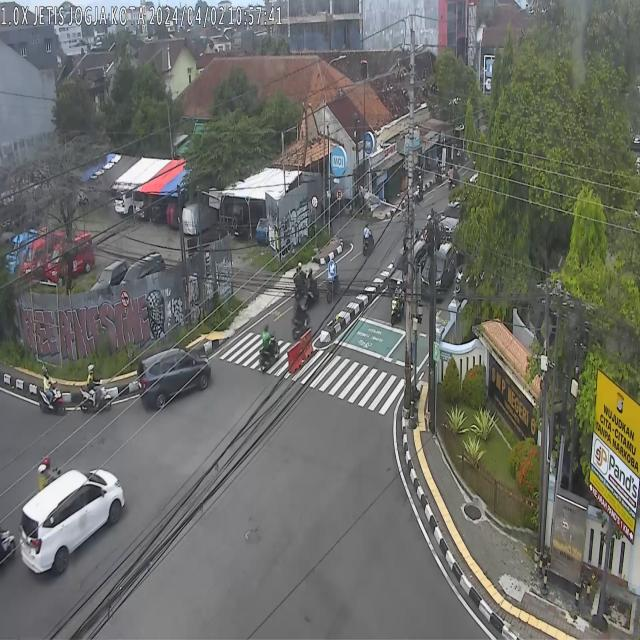car: (20, 466, 126, 576), (137, 348, 212, 409), (388, 238, 428, 295), (420, 241, 456, 303), (439, 201, 460, 241)
motorcycle: (77, 364, 112, 412), (37, 365, 66, 417), (259, 323, 280, 372), (33, 458, 63, 489), (0, 523, 19, 571), (291, 293, 310, 340), (303, 268, 319, 307), (293, 261, 308, 299), (392, 280, 404, 325), (326, 271, 341, 303), (363, 223, 374, 256), (453, 265, 463, 301)
